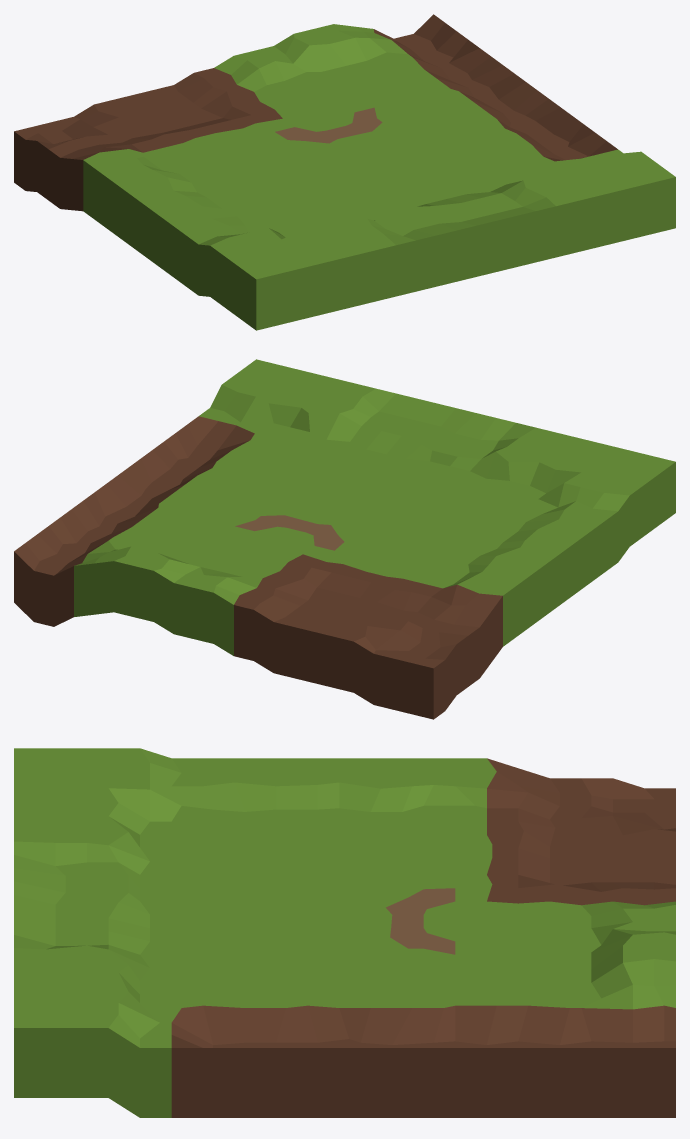
The model's file is Terrain-01.fbx.
3 views of the same model, one above another, from view 1: azimuth 30°, elevation 25°; view 2: azimuth 150°, elevation 25°; view 3: azimuth 270°, elevation 25° (orthographic). The views are drawn at different scales.
Visible parts, largest first — view 1: Terrain-01; view 2: Terrain-01; view 3: Terrain-01.
Part boxes in pixels (x1,y1,x2,y2): Terrain-01: (14,14,675,330); Terrain-01: (14,359,675,719); Terrain-01: (14,748,675,1117).
Bounding box in the file's own units: 30000 × 5500 × 30000.
